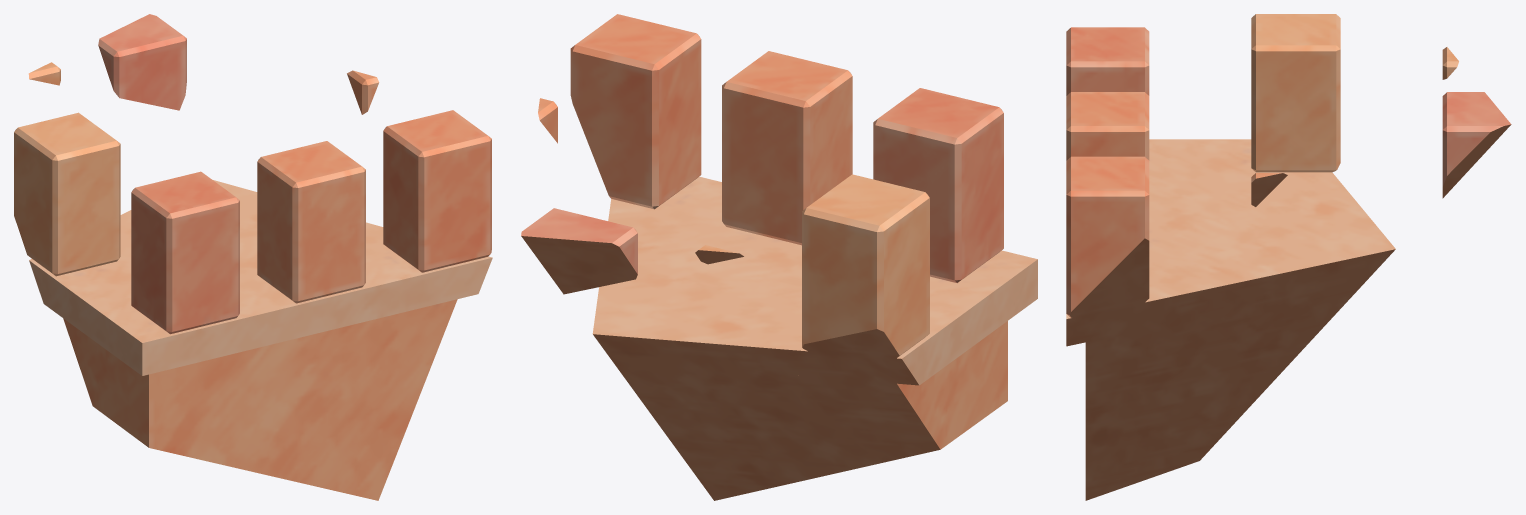
The model's file is townwall_tower_s10.fbx.
3 renders of one model, left to right at view 1: azimuth 30°, elevation 25°; view 2: azimuth 150°, elevation 25°; view 3: azimuth 270°, elevation 25°, orthographic. The views are drawn at different scales.
Parts seen in each view (by area): view 1: townwall_tower_s10; view 2: townwall_tower_s10; view 3: townwall_tower_s10.
Boxes of the visible parts, x1,y1,x2,y2 form: townwall_tower_s10: [14, 14, 492, 500]; townwall_tower_s10: [521, 14, 1037, 500]; townwall_tower_s10: [1066, 14, 1511, 500].
Size of the model in its own units: 6.7 by 6.28 by 6.98.
